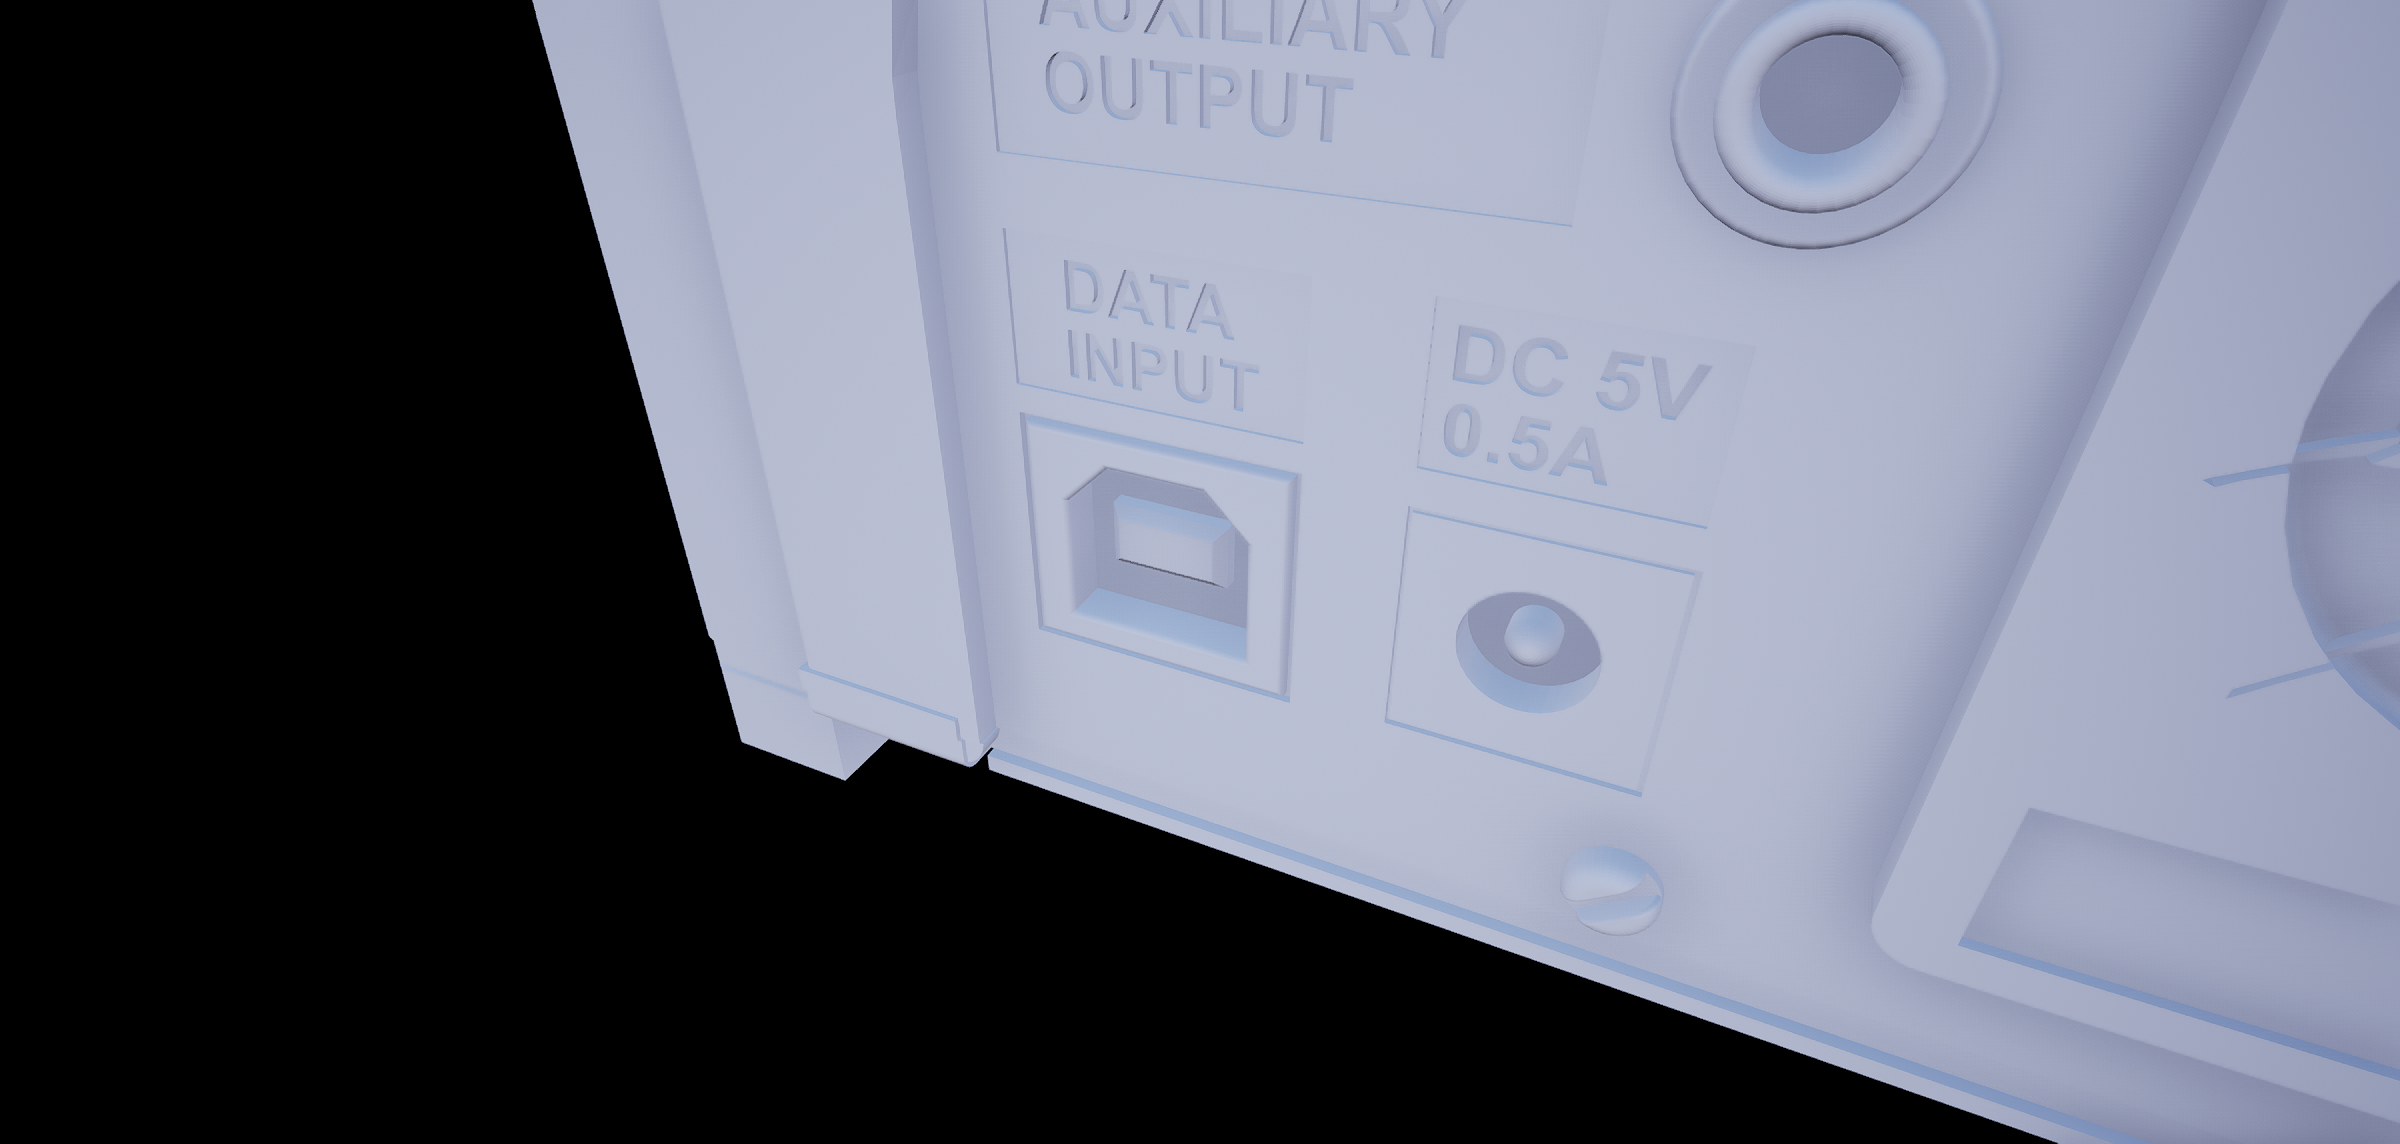aux: (1661, 2, 2017, 257)
dc: (1445, 582, 1613, 744)
usb: (1048, 452, 1266, 669)
